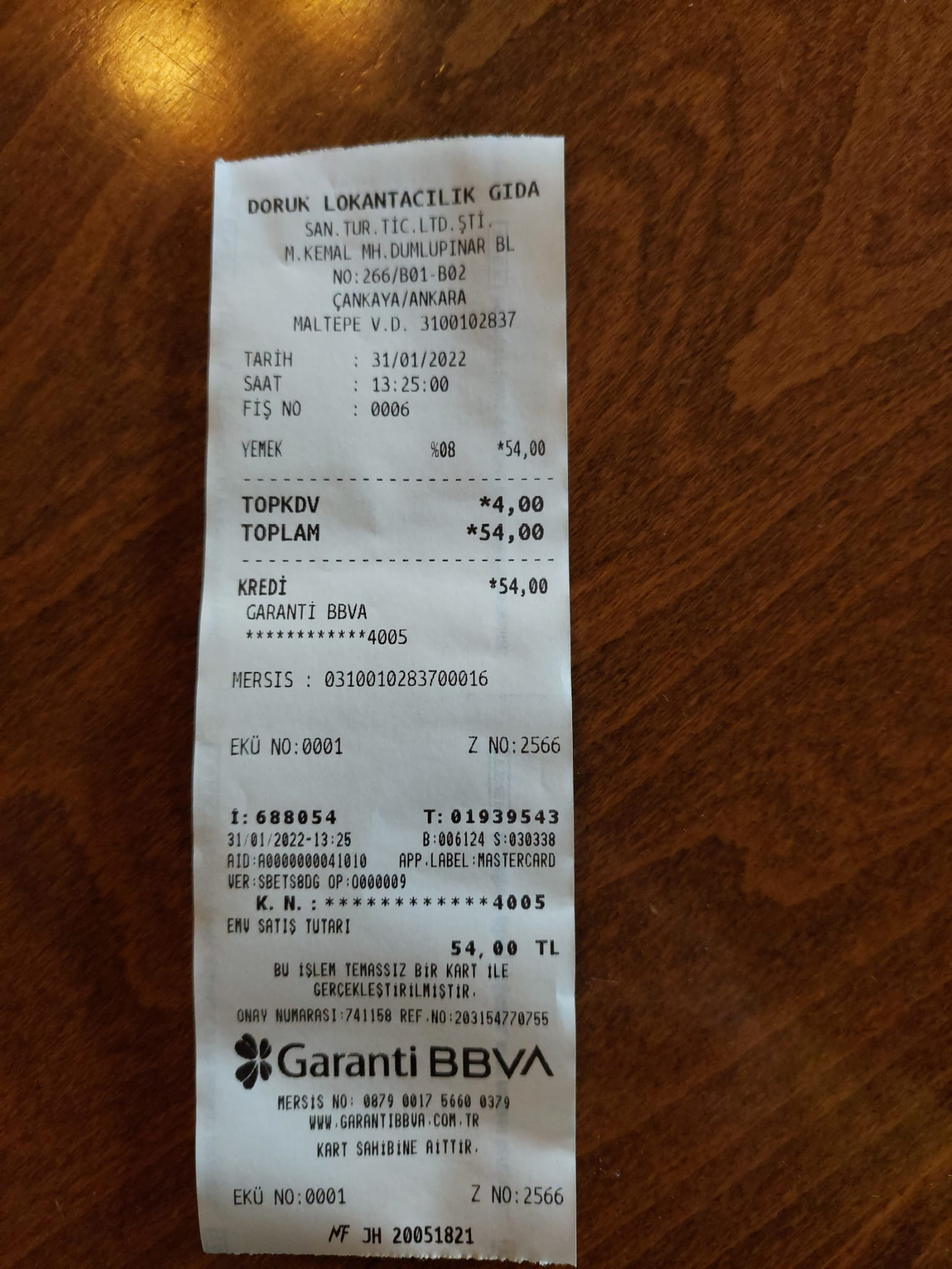date: (475, 515, 549, 548)
price: (364, 343, 470, 374)
workplace: (235, 177, 554, 311)
